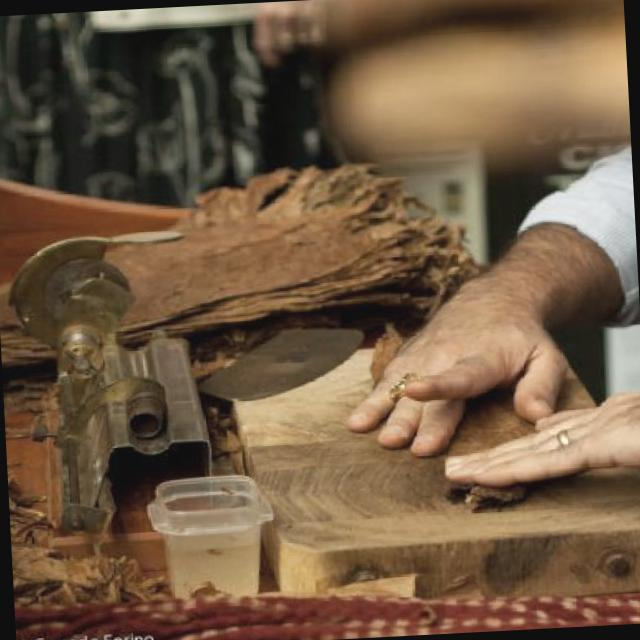Person: (326, 149, 640, 498)
